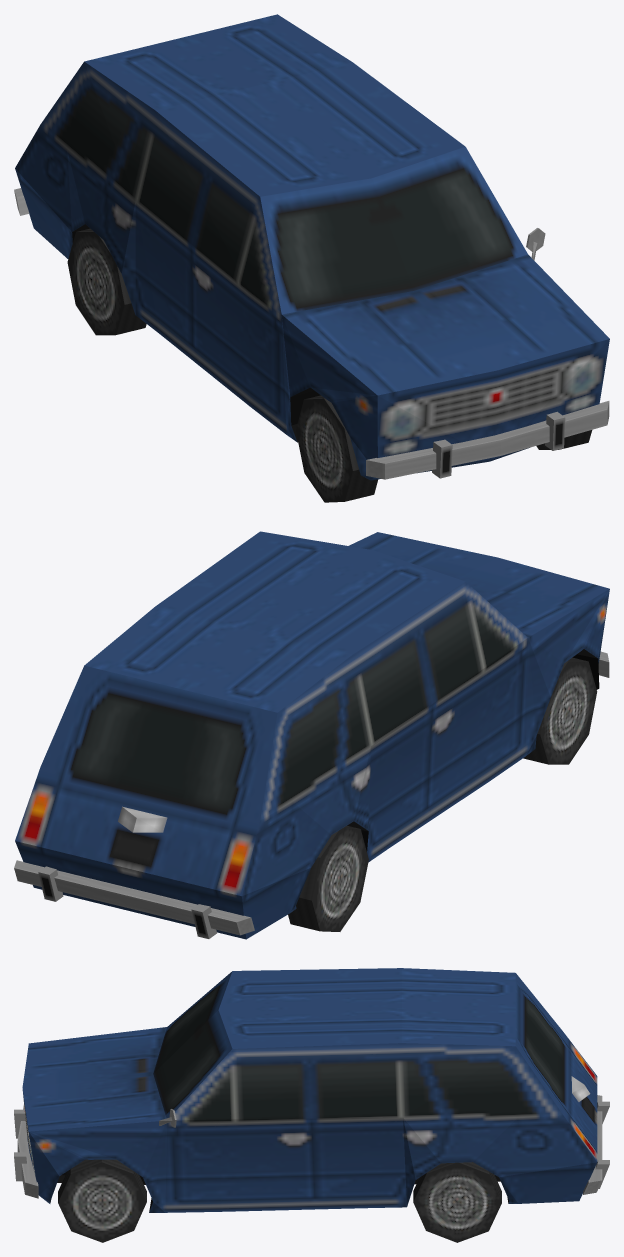
File: ggbot_car01.glb
3 renders of one model, top to bottom at view 1: azimuth 30°, elevation 25°; view 2: azimuth 150°, elevation 25°; view 3: azimuth 270°, elevation 25°, orthographic. The views are drawn at different scales.
Parts seen in each view (by area): view 1: world; view 2: world; view 3: world.
Part boxes in pixels (x1,y1,x2,y2): world: [14, 14, 609, 502]; world: [14, 531, 609, 939]; world: [14, 968, 609, 1242].
Size of the model in its own units: 1.58 by 1.34 by 3.8.
Materials: 1 (1 with a texture image).
